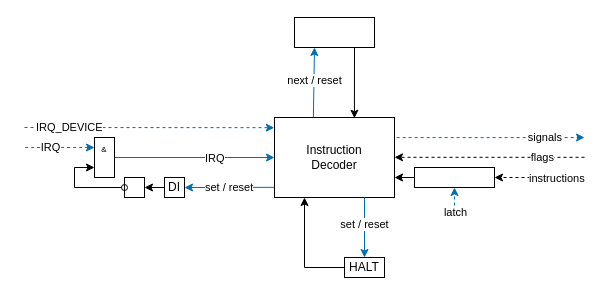
This 610x295 diagram has some shape labels left out. Each missing label, with the box of its shape:
IR: (414, 166, 494, 188)
Step Counter: (294, 16, 374, 48)
